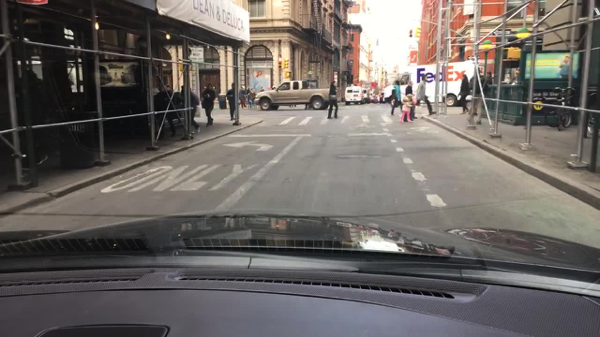bike: (550, 88, 574, 131), (585, 91, 599, 136)
car: (255, 81, 332, 111), (344, 85, 363, 105), (363, 88, 369, 104), (370, 91, 376, 104)
person: (152, 84, 176, 141), (467, 66, 486, 125), (413, 74, 436, 120), (165, 84, 185, 136), (181, 84, 201, 135), (201, 84, 217, 127), (389, 79, 403, 117), (457, 74, 470, 114), (403, 81, 415, 122), (327, 80, 339, 119), (227, 83, 237, 120), (238, 85, 247, 110), (247, 88, 255, 108), (486, 71, 492, 86), (251, 88, 254, 110), (260, 87, 264, 92)
traffic light: (407, 25, 413, 38), (414, 26, 420, 38), (284, 57, 290, 69), (278, 57, 283, 69)
truck: (377, 59, 480, 107)
